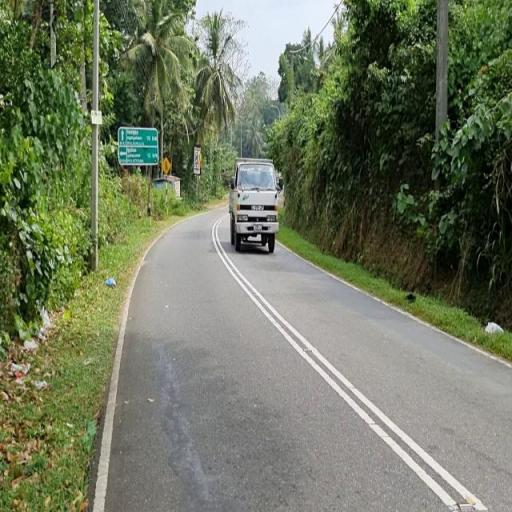double_white_line: (214, 213, 489, 510)
